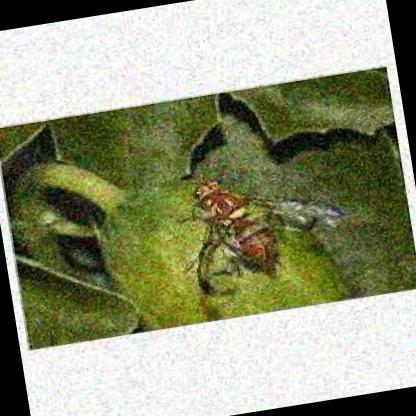fruit fly: (190, 177, 338, 300)
